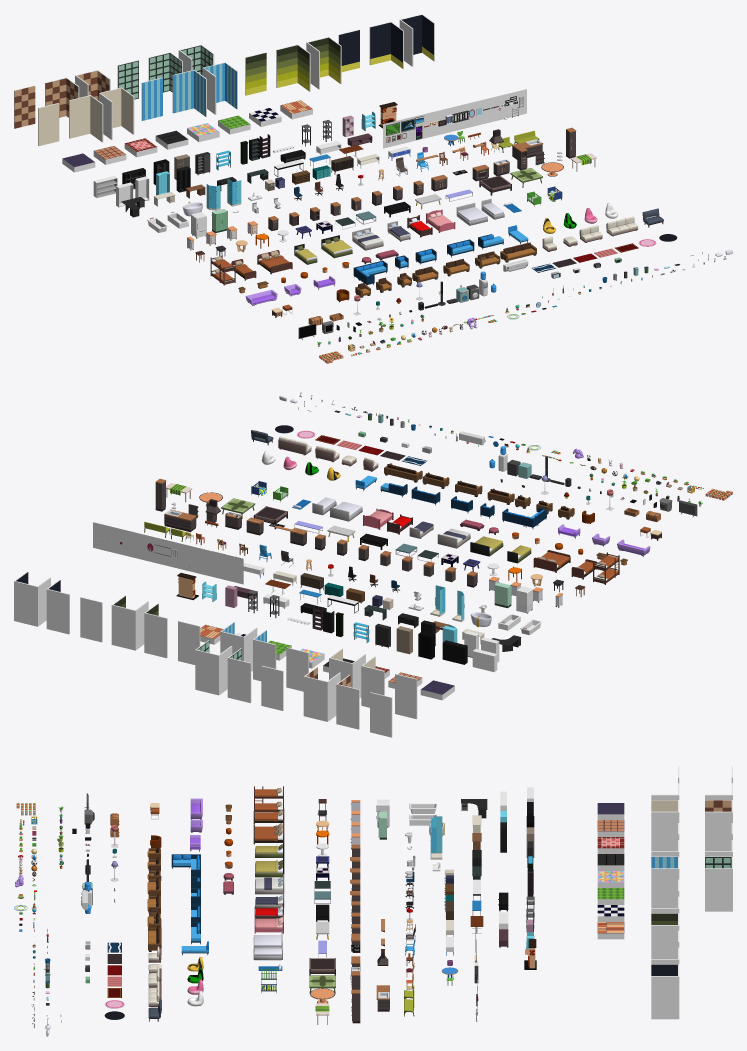
Rendered from Pandazole Home Interior.fbx.
3 views of the same model, one above another, from view 1: azimuth 30°, elevation 25°; view 2: azimuth 150°, elevation 25°; view 3: azimuth 270°, elevation 25° (orthographic). The views are drawn at different scales.
Visible parts, largest first — view 1: DemoWall, Prop_WallCShape_01, Prop_WallCShape_03, Prop_WallCornor_02, Prop_WallCornor_03, Prop_WallCornor_01, Prop_WallCornor_04, Prop_WallCShape_04, Prop_WallCShape_02, Prop_WallCornor_06, Prop_WallCornor_05, Prop_Wall_02 (+7 smaller); view 2: DemoWall, Prop_WallCShape_03, Prop_WallCShape_05, Prop_WallCShape_06, Prop_WallCShape_04, Prop_WallCornor_06, Prop_WallCornor_05, Prop_WallCornor_03, Prop_WallCornor_04, Prop_Wall_04, Prop_Wall_05, Prop_Wall_01 (+10 smaller); view 3: Prop_WallCShape_04, Prop_WallCShape_06, Prop_WallCShape_02, Prop_WallCShape_01, Prop_WallCShape_05, Prop_WallCShape_03, Prop_Bed_01, Prop_Bed_03, Prop_Bed_06, Prop_Bed_05, Prop_Sofa_06_A, Prop_GroundBase_08 (+8 smaller).
Boxes of the visible parts, box(x1,y1,x2,y2) form: DemoWall: box(383, 89, 526, 148); Prop_WallCShape_01: box(99, 87, 134, 139); Prop_WallCShape_03: box(306, 37, 341, 89); Prop_WallCornor_02: box(172, 69, 206, 116); Prop_WallCornor_03: box(276, 44, 310, 91); Prop_WallCornor_01: box(69, 95, 103, 142); Prop_WallCornor_04: box(369, 21, 403, 68); Prop_WallCShape_04: box(399, 14, 434, 66); Prop_WallCShape_02: box(202, 62, 237, 114); Prop_WallCornor_06: box(148, 52, 182, 92); Prop_WallCornor_05: box(45, 77, 79, 117); Prop_Wall_02: box(141, 77, 162, 120); DemoWall: box(93, 522, 243, 584); Prop_WallCShape_03: box(111, 595, 148, 650); Prop_WallCShape_05: box(303, 667, 340, 721); Prop_WallCShape_06: box(195, 640, 232, 695); Prop_WallCShape_04: box(14, 571, 50, 626); Prop_WallCornor_06: box(227, 648, 251, 702); Prop_WallCornor_05: box(336, 674, 359, 729); Prop_WallCornor_03: box(144, 603, 167, 658); Prop_WallCornor_04: box(46, 579, 69, 634); Prop_Wall_04: box(80, 597, 102, 642); Prop_Wall_05: box(370, 692, 392, 737); Prop_Wall_01: box(395, 674, 417, 719); Prop_WallCShape_04: box(651, 964, 679, 1019); Prop_WallCShape_06: box(705, 856, 732, 911); Prop_WallCShape_02: box(651, 856, 679, 907); Prop_WallCShape_01: box(651, 800, 679, 851); Prop_WallCShape_05: box(705, 800, 732, 851); Prop_WallCShape_03: box(651, 913, 679, 958); Prop_Bed_01: box(254, 786, 283, 812); Prop_Bed_03: box(253, 822, 284, 844); Prop_Bed_06: box(255, 874, 284, 894); Prop_Bed_05: box(255, 857, 284, 877); Prop_Sofa_06_A: box(171, 854, 200, 876); Prop_GroundBase_08: box(597, 922, 624, 939).
Size of the model in its own units: 4069 by 382 by 5362.
